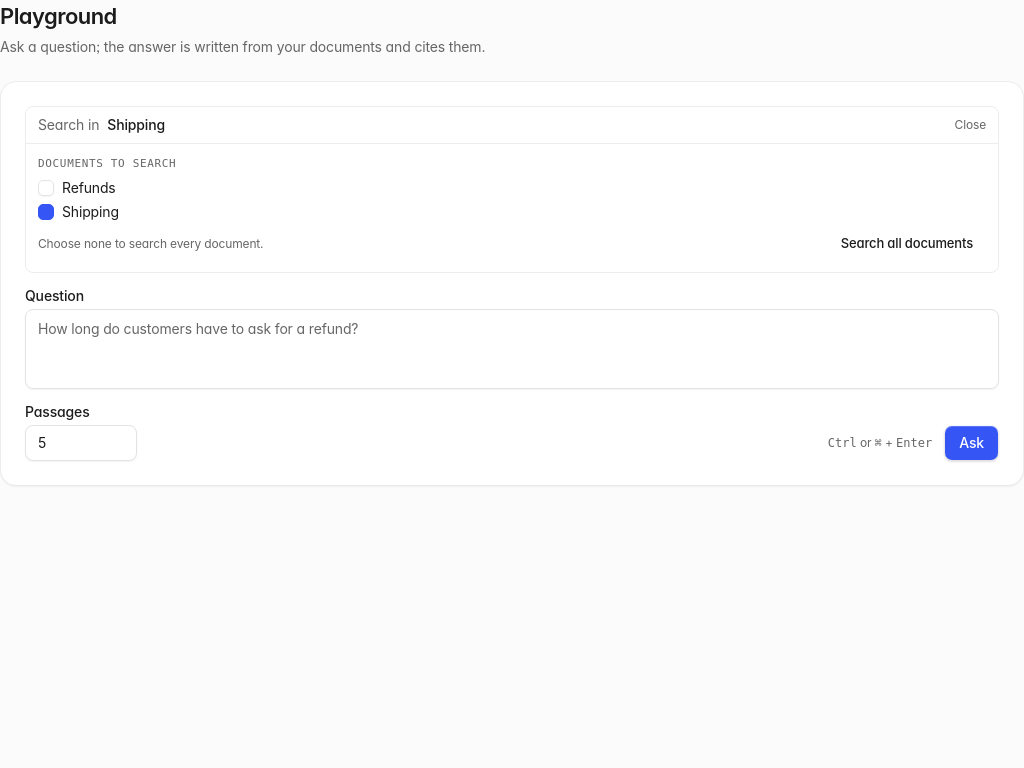
Test: PlaygroundContainer (mocked API) › a question can be narrowed to chosen documents, and cleared back to all
The image size is (1024, 768).
Earlier steps of the test are not shown.
Later steps or results of the test are not shown.
expect the text "Shipping" next to "Search in" is shown: met, box [107,116,165,133]
Click the text "Refunds" at (89, 188), box [62,181,116,195]
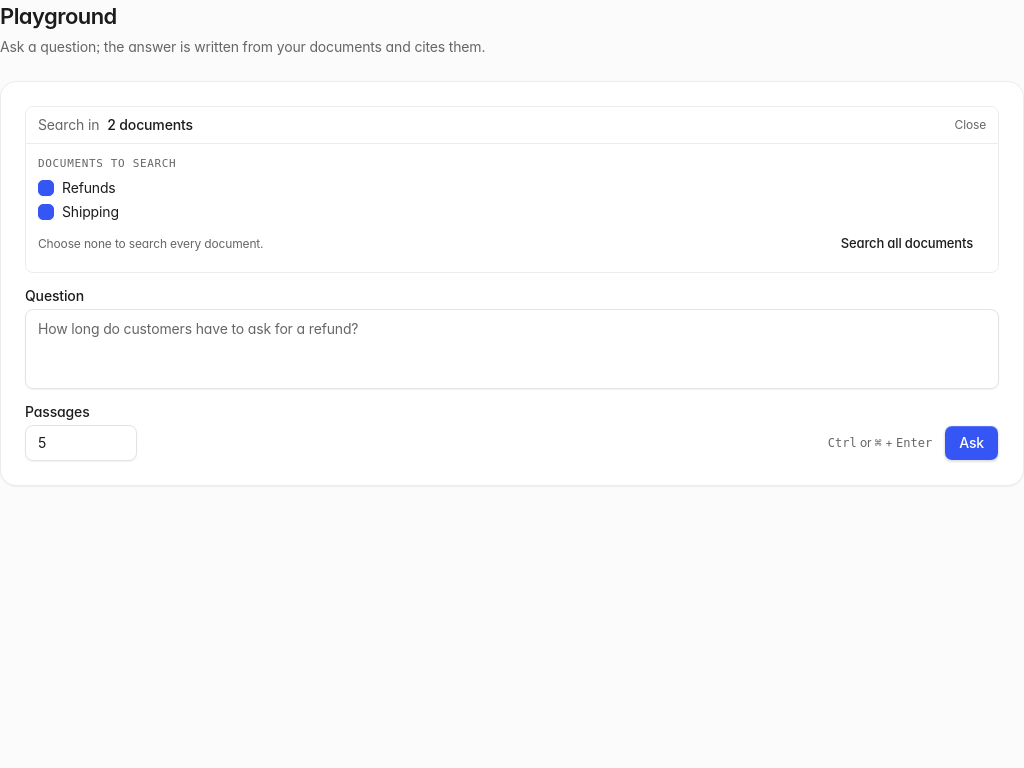
expect the text "2 documents" is shown: met, box [107,115,193,135]
Type "What is covered?" into the text box labelled "Question" at (512, 349), box [25,309,999,389]
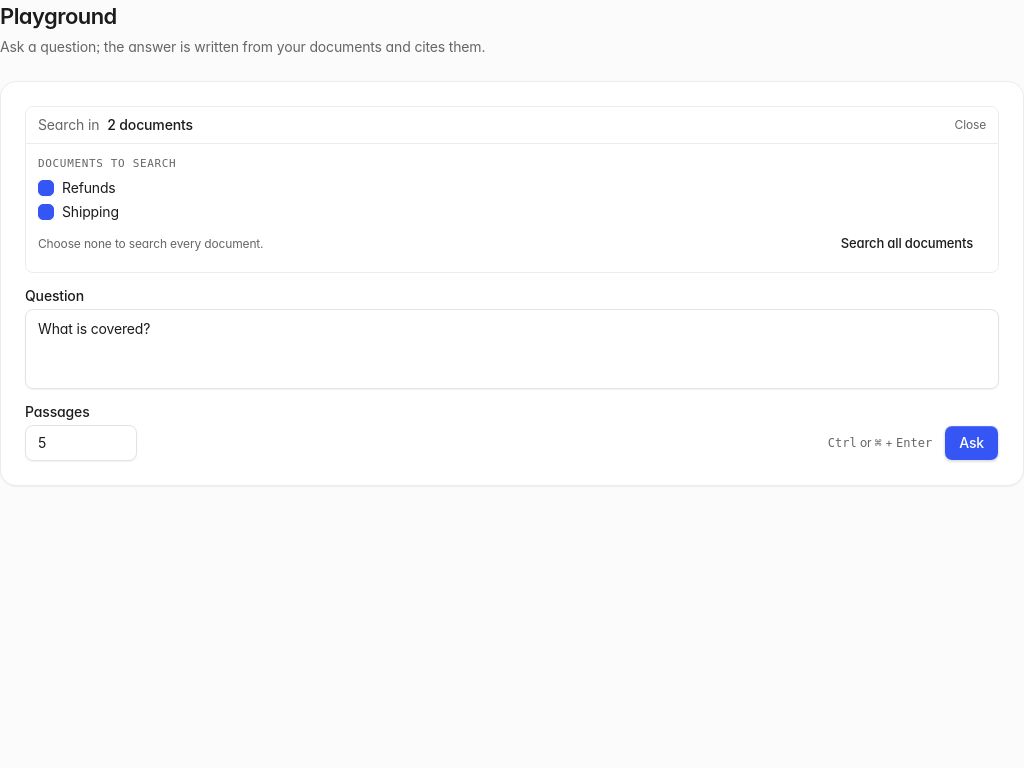
Replace the text in the number field labelled "Passages" with "3" at (81, 443), box [25,425,137,461]
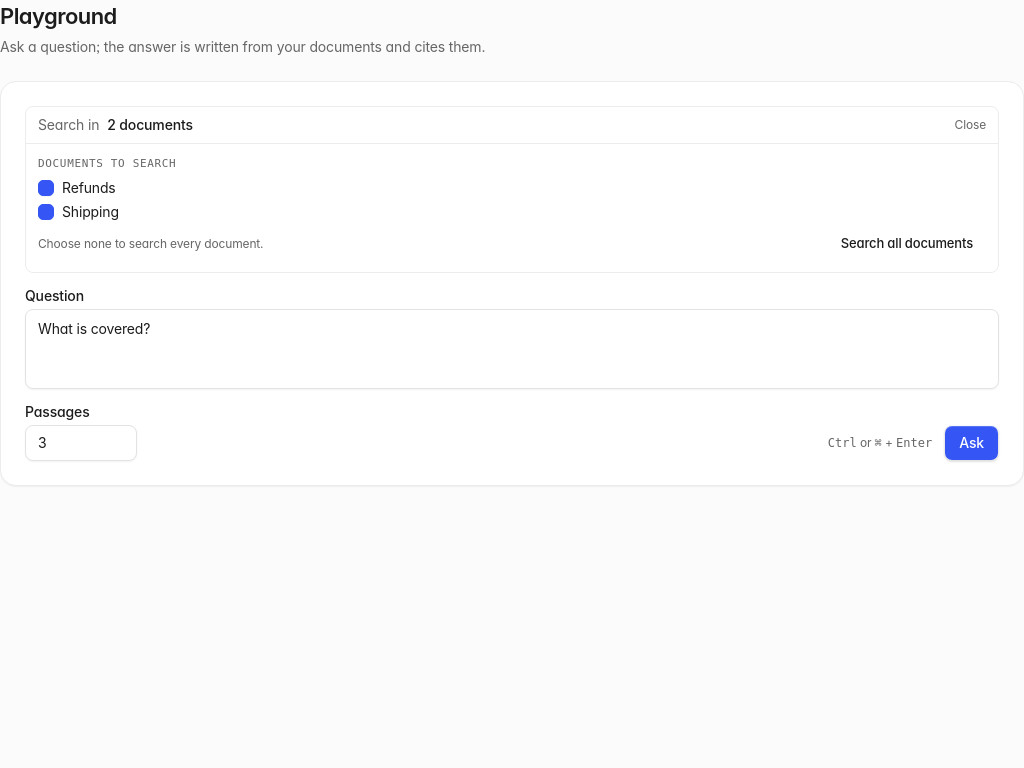
Click the button "Ask" at (972, 443), box [944,425,999,461]
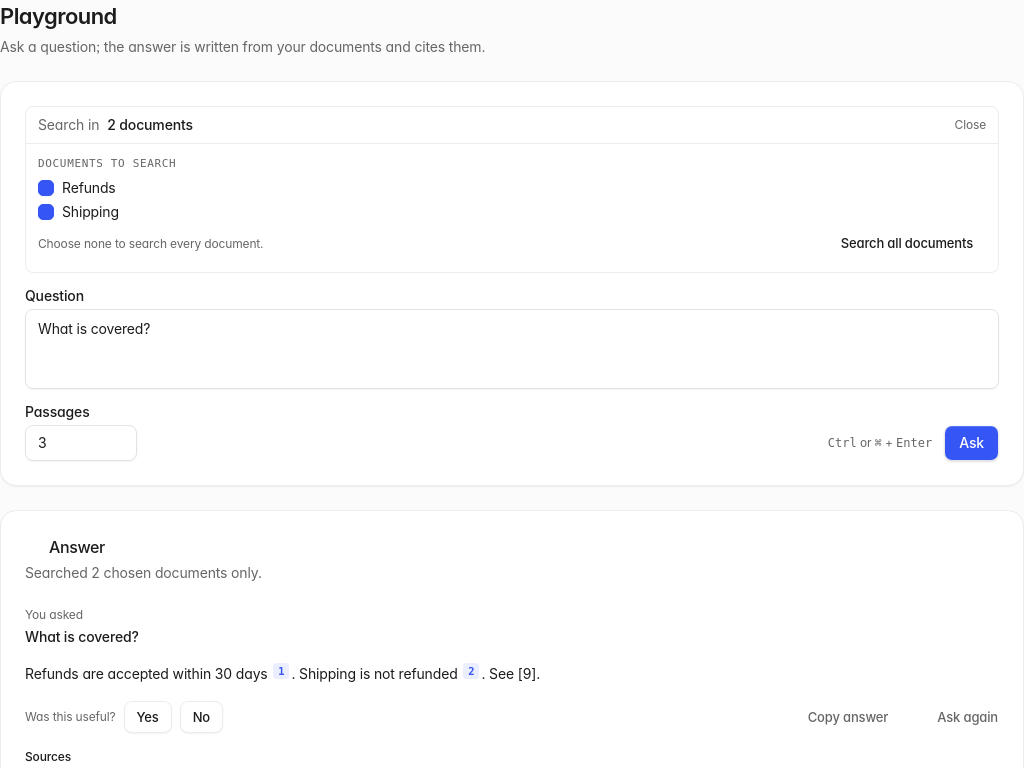
expect the text "Searched 2 chosen documents only." is shown: met, box [25,564,262,581]
Click the button "Search all documents" at (907, 244), box [828,228,986,260]
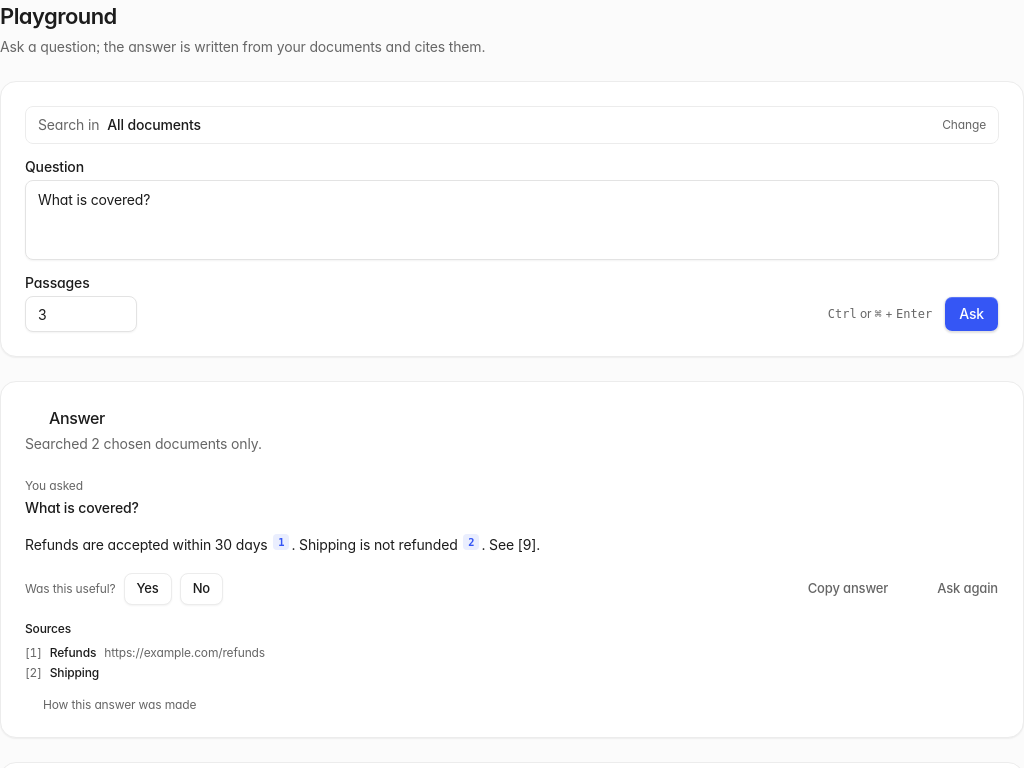
expect the text "All documents" is shown: met, box [107,115,201,135]
